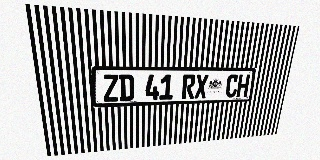1: (159, 74, 174, 100)
4: (145, 74, 160, 100)
C: (225, 74, 239, 97)
D: (119, 74, 134, 101)
H: (236, 74, 250, 97)
R: (182, 74, 196, 99)
X: (194, 74, 208, 99)
Z: (102, 74, 119, 102)
